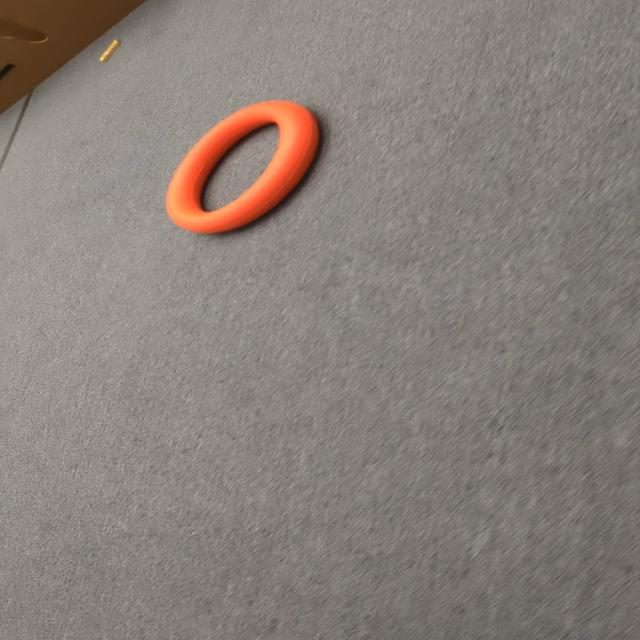note: (165, 98, 323, 231)
